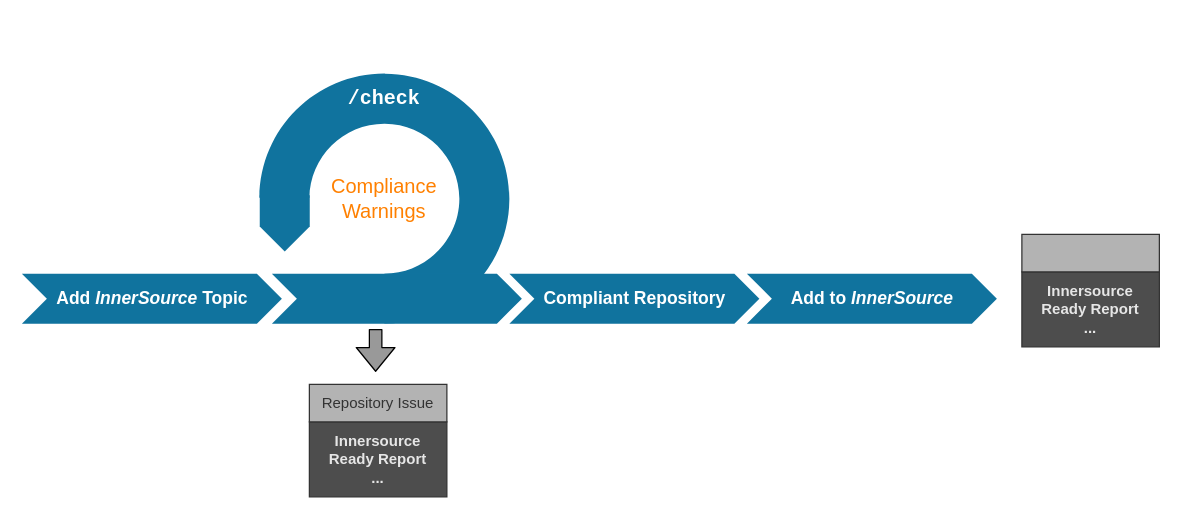
This 1181x519 diagram has some shape labels left out. Each missing label, with the centre of its shape:
"Evaluate Repository" goes at point (396, 298).
"JSON" goes at point (1090, 252).
